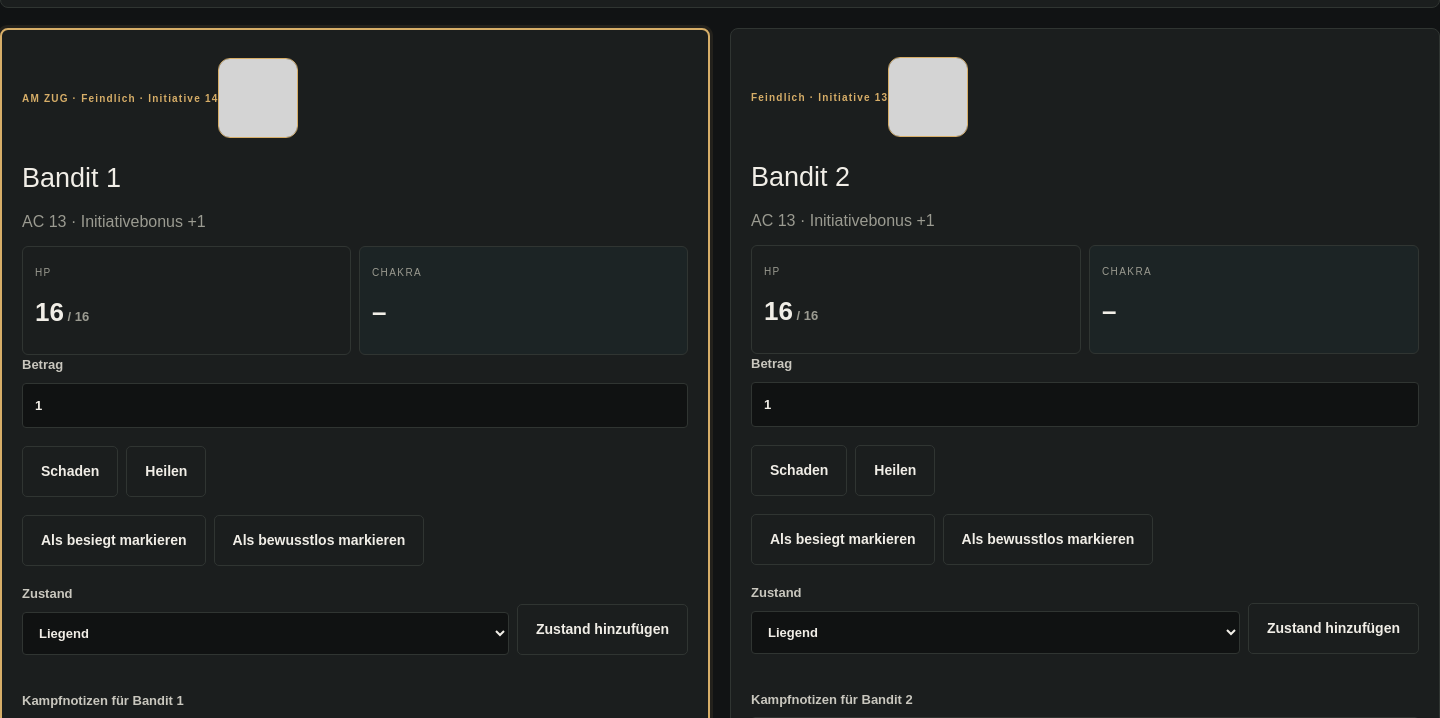
it: applies persisted damage only to the selected actor and uses a versioned request
(page scrolled)
Replace the text in the number field labelled "Betrag" below "AM ZUG ·" with "5". click: (355, 406)
box: [22,383,688,428]
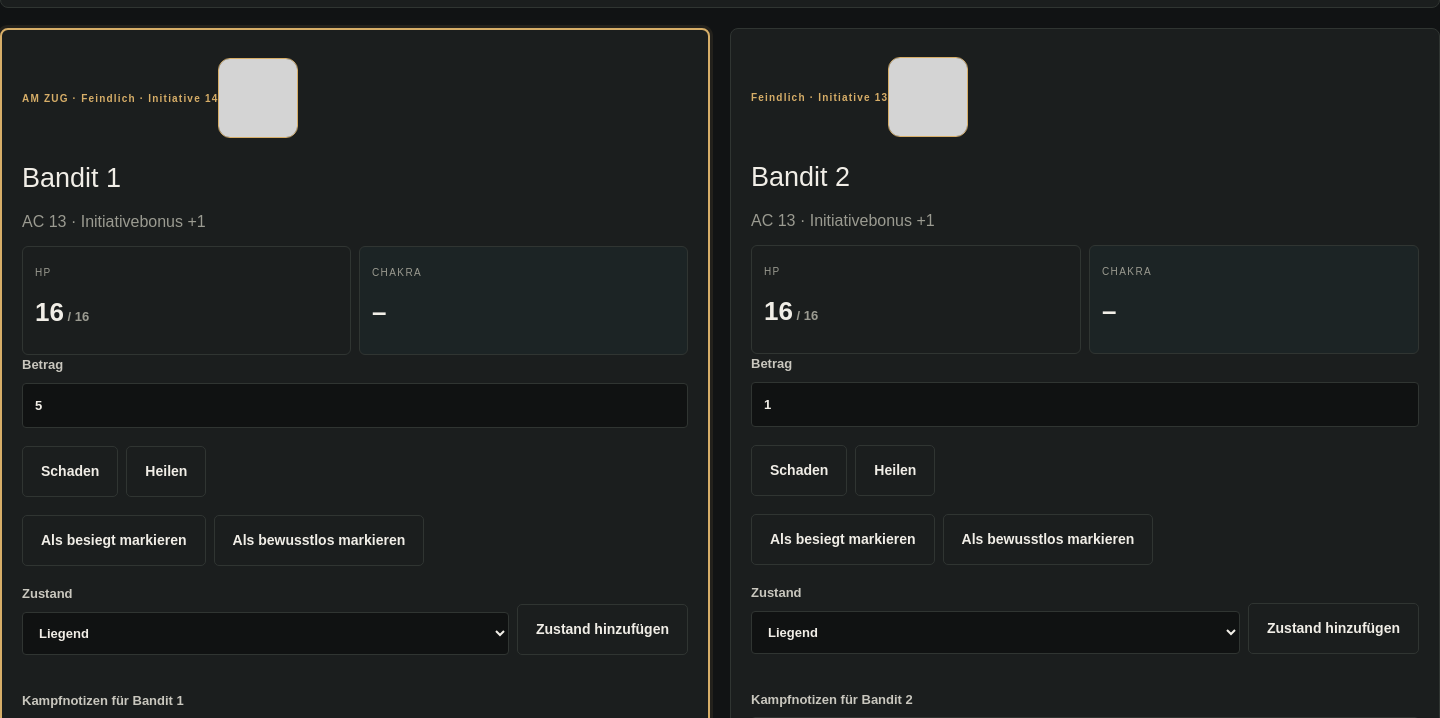
Click the 1st button "Schaden". click: (70, 472)
box: [22,446,118,497]
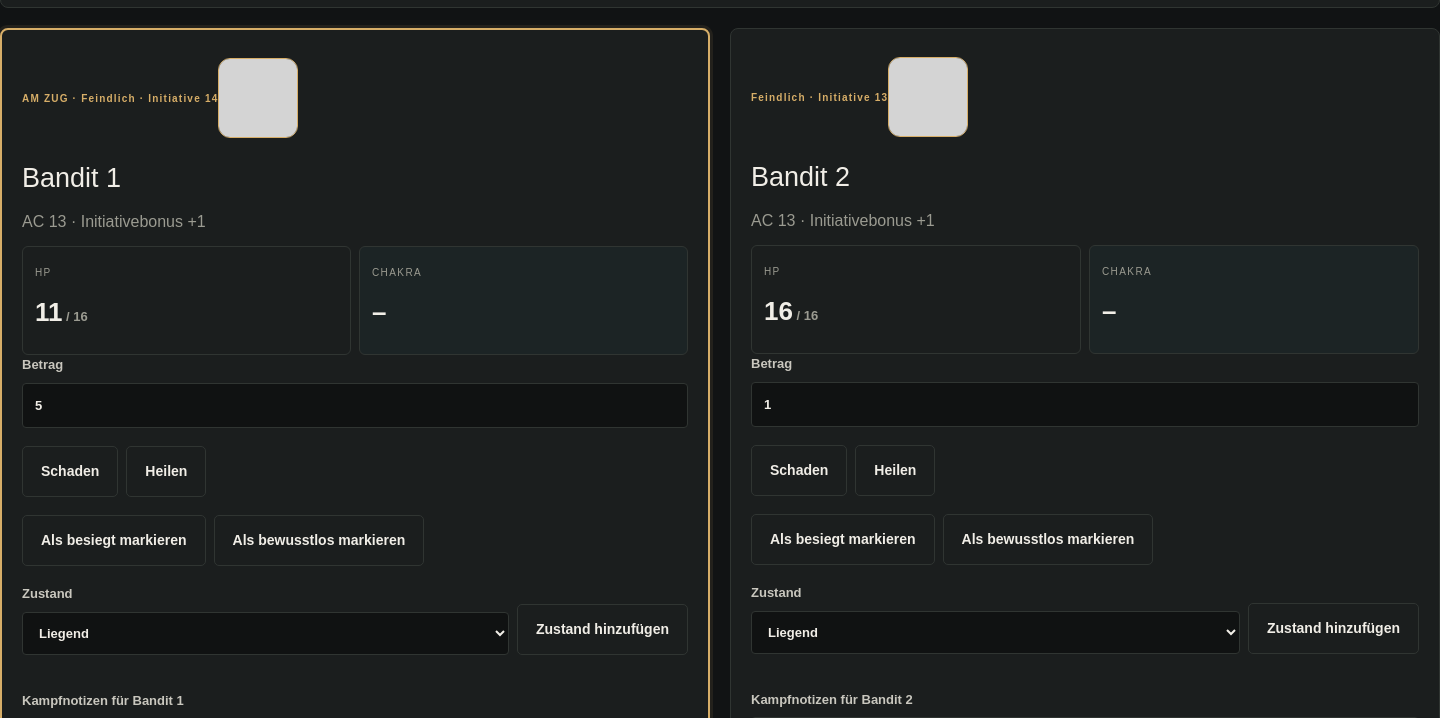
Check: the text "11" is shown, box [35,297,62,327]
